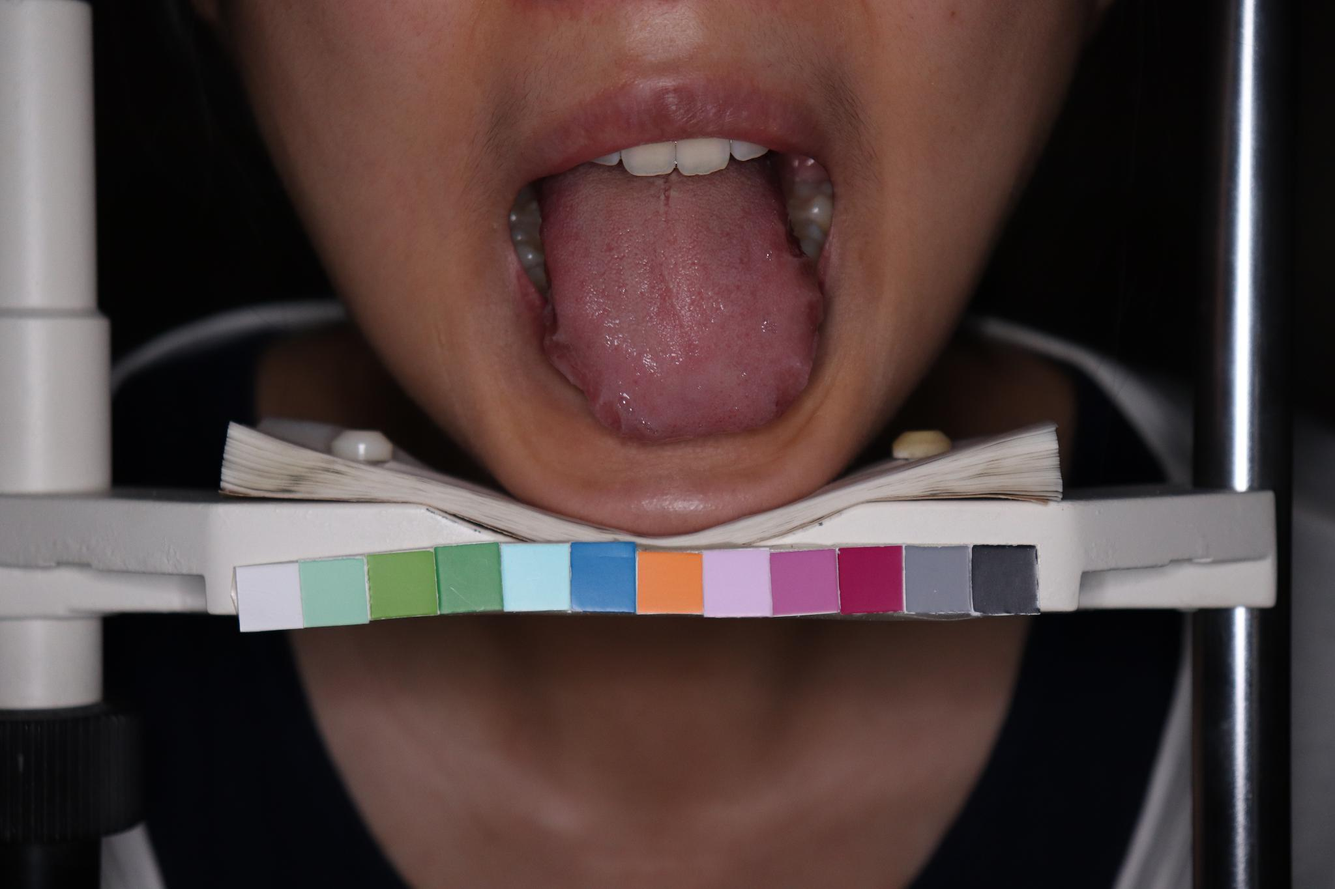baitaishe: (538, 161, 827, 445)
chihenshe: (546, 333, 624, 437), (786, 231, 827, 388)
zishe: (537, 161, 827, 445)
